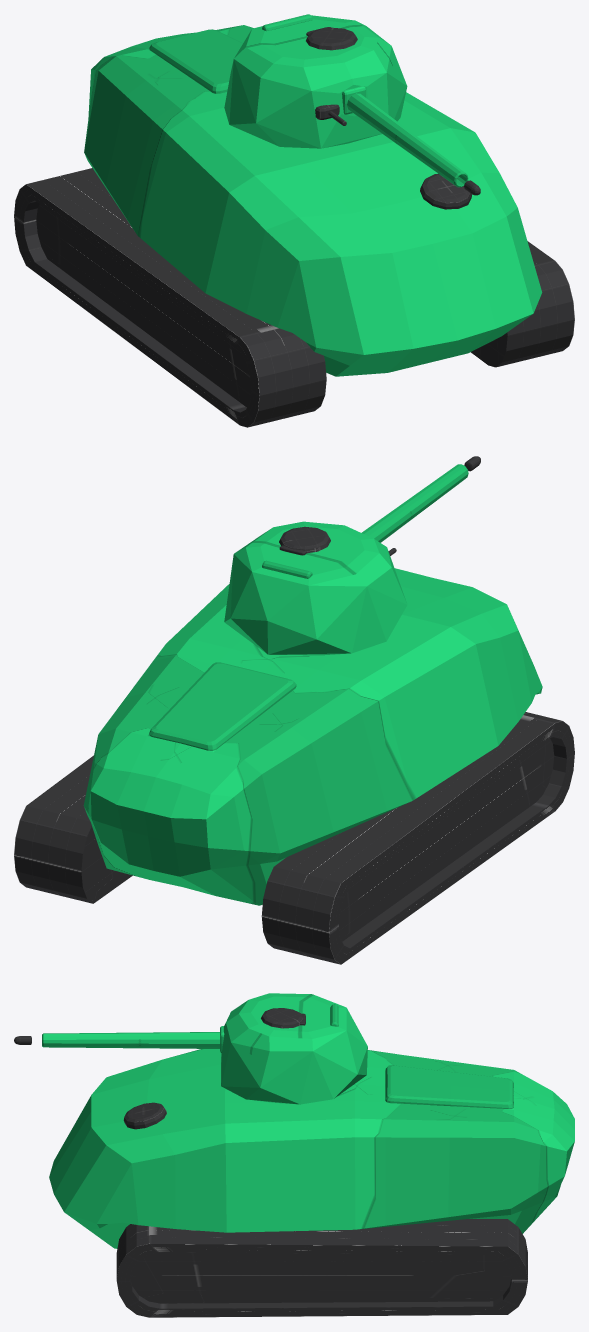
The model's file is tank.glb.
3 renders of one model, top to bottom at view 1: azimuth 30°, elevation 25°; view 2: azimuth 150°, elevation 25°; view 3: azimuth 270°, elevation 25°, orthographic. The views are drawn at different scales.
Parts seen in each view (by area): view 1: hull, right_track, turret, left_track, main_gun, driver_hatch, commander_hatch; view 2: hull, right_track, turret, left_track, main_gun, commander_hatch; view 3: hull, left_track, turret, main_gun, driver_hatch, commander_hatch.
Part boxes in pixels (bbox=[...]): hull: bbox=[84, 25, 542, 376]; right_track: bbox=[14, 168, 326, 427]; turret: bbox=[224, 14, 407, 148]; left_track: bbox=[471, 241, 574, 367]; main_gun: bbox=[342, 86, 468, 187]; driver_hatch: bbox=[420, 173, 471, 209]; commander_hatch: bbox=[306, 27, 357, 50]; hull: bbox=[83, 568, 542, 905]; right_track: bbox=[261, 712, 574, 964]; turret: bbox=[224, 521, 407, 655]; left_track: bbox=[14, 755, 132, 903]; main_gun: bbox=[361, 464, 468, 542]; commander_hatch: bbox=[279, 526, 330, 555]; hull: bbox=[49, 1049, 574, 1248]; left_track: bbox=[116, 1219, 527, 1317]; turret: bbox=[221, 993, 367, 1104]; main_gun: bbox=[42, 1026, 224, 1052]; driver_hatch: bbox=[123, 1102, 166, 1129]; commander_hatch: bbox=[261, 1008, 305, 1028].
Bounding box in the file's own units: 3.48 × 3.07 × 6.4.
Materials: 2 (2 with a texture image).
